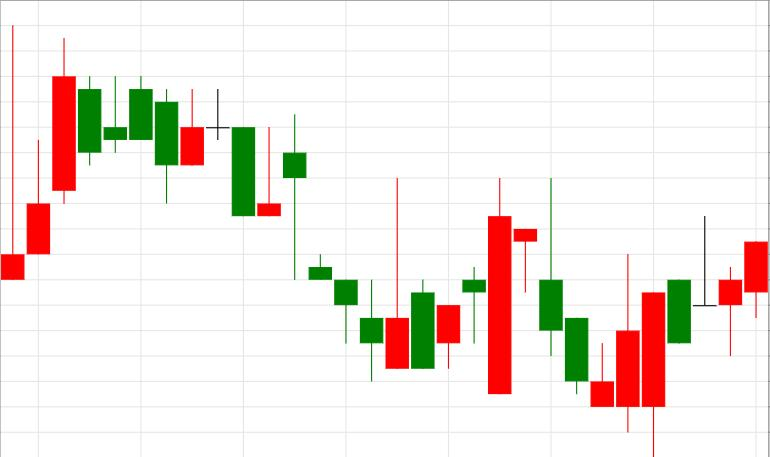inverse_hammer_rise: (232, 114, 409, 383)
